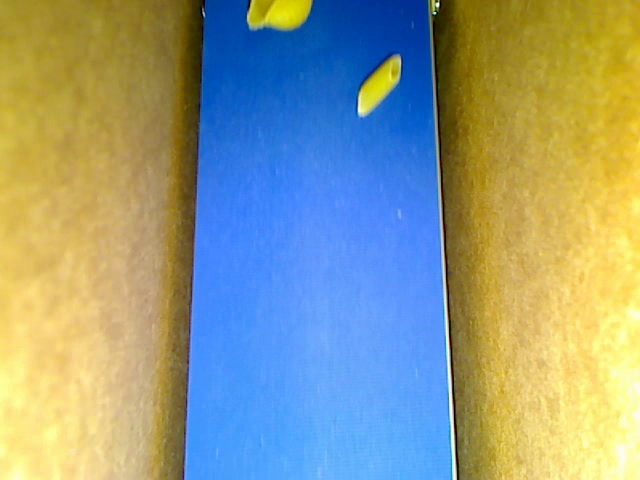penne: (357, 54, 401, 119)
shell: (246, 1, 311, 33)
